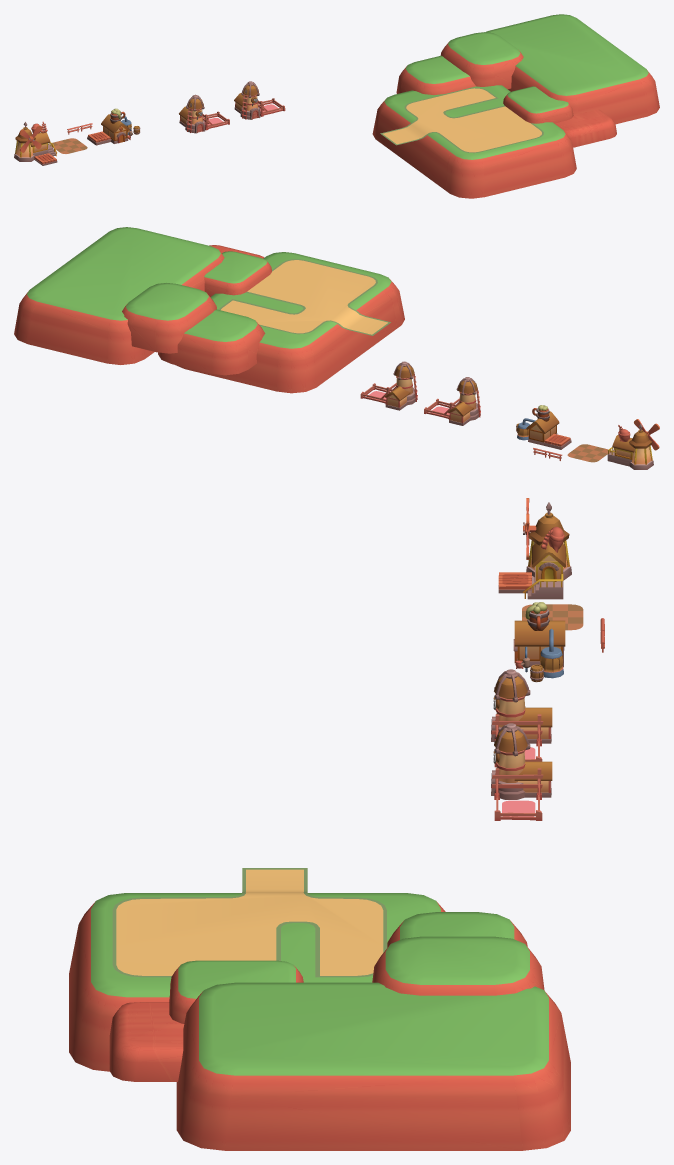
Rendered from Map Unity Part 3 .fbx.
The picture shows the model from 3 angles, top to bottom: view 1: azimuth 30°, elevation 25°; view 2: azimuth 150°, elevation 25°; view 3: azimuth 270°, elevation 25°; orthographic projection. The views are drawn at different scales.
Visible parts, largest first — view 1: Cube.163, Cube.189, Plane.046, Cube.167, Cube.164, Cube.166, Cube.187, Plane.005, Cylinder.042, Cylinder.041, Cube.013, Plane.007; view 2: Cube.163, Cube.189, Plane.046, Cube.164, Cube.167, Cube.166, Plane.005, Cylinder.042, Cylinder.041, Cube.013, Plane.007; view 3: Cube.163, Plane.046, Cube.189, Cube.167, Cube.187, Cylinder.042, Cube.166, Plane.005, Cylinder.041, Cube.013, Cube.164.
Part boxes in pixels (left/top/right/bottom): Cube.163: left=485, top=14, right=659, bottom=124; Cube.189: left=372, top=85, right=576, bottom=198; Plane.046: left=380, top=87, right=543, bottom=153; Cube.167: left=440, top=32, right=523, bottom=89; Cube.164: left=396, top=55, right=475, bottom=95; Cube.166: left=503, top=86, right=573, bottom=123; Cube.187: left=555, top=109, right=616, bottom=147; Plane.005: left=14, top=121, right=57, bottom=165; Cylinder.042: left=234, top=81, right=285, bottom=119; Cylinder.041: left=179, top=94, right=229, bottom=133; Cube.013: left=87, top=108, right=133, bottom=145; Plane.007: left=51, top=138, right=87, bottom=153; Cube.163: left=14, top=227, right=224, bottom=364; Cube.189: left=175, top=252, right=404, bottom=393; Plane.046: left=219, top=259, right=390, bottom=335; Cube.164: left=158, top=309, right=265, bottom=375; Cube.167: left=122, top=283, right=216, bottom=353; Cube.166: left=204, top=251, right=271, bottom=296; Plane.005: left=607, top=423, right=653, bottom=469; Cylinder.042: left=360, top=361, right=417, bottom=410; Cylinder.041: left=424, top=377, right=480, bottom=425; Cube.013: left=517, top=405, right=571, bottom=449; Plane.007: left=567, top=444, right=610, bottom=462; Cube.163: left=176, top=982, right=570, bottom=1150; Plane.046: left=112, top=868, right=386, bottom=977; Cube.189: left=69, top=893, right=445, bottom=1071; Cube.167: left=372, top=936, right=544, bottom=995; Cube.187: left=109, top=1002, right=184, bottom=1081; Cylinder.042: left=491, top=723, right=552, bottom=820; Cube.166: left=169, top=960, right=303, bottom=1023; Plane.005: left=498, top=502, right=571, bottom=599; Cylinder.041: left=491, top=669, right=552, bottom=767; Cube.013: left=513, top=602, right=565, bottom=678; Cube.164: left=387, top=912, right=527, bottom=947.
Size of the model in its own units: 28.64 by 3.44 by 11.84.
